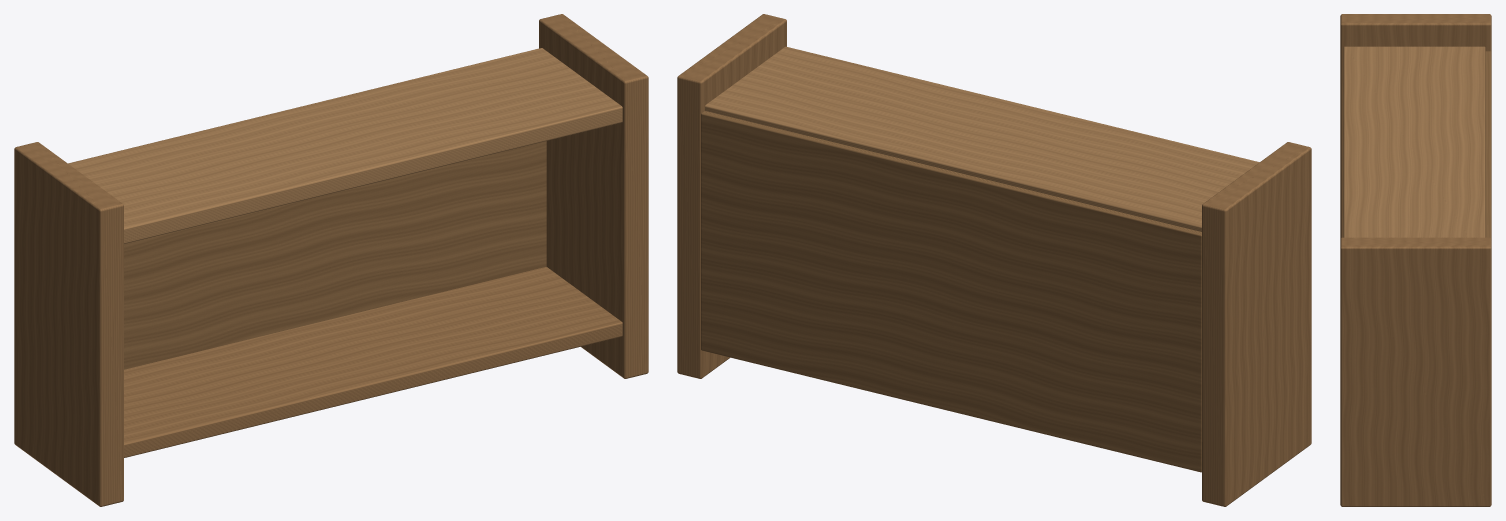
Rendered from estante_baixa.glb.
3 renders of one model, left to right at view 1: azimuth 30°, elevation 25°; view 2: azimuth 150°, elevation 25°; view 3: azimuth 270°, elevation 25°, orthographic. The views are drawn at different scales.
Parts seen in each view (by area): view 1: estante_baixa; view 2: estante_baixa; view 3: estante_baixa.
Boxes of the visible parts, x1,y1,x2,y2 form: estante_baixa: [14, 14, 648, 506]; estante_baixa: [677, 14, 1311, 506]; estante_baixa: [1340, 14, 1491, 506].
Size of the model in its own units: 1.1 by 0.57 by 0.3.
Materials: 3 (3 with a texture image).
